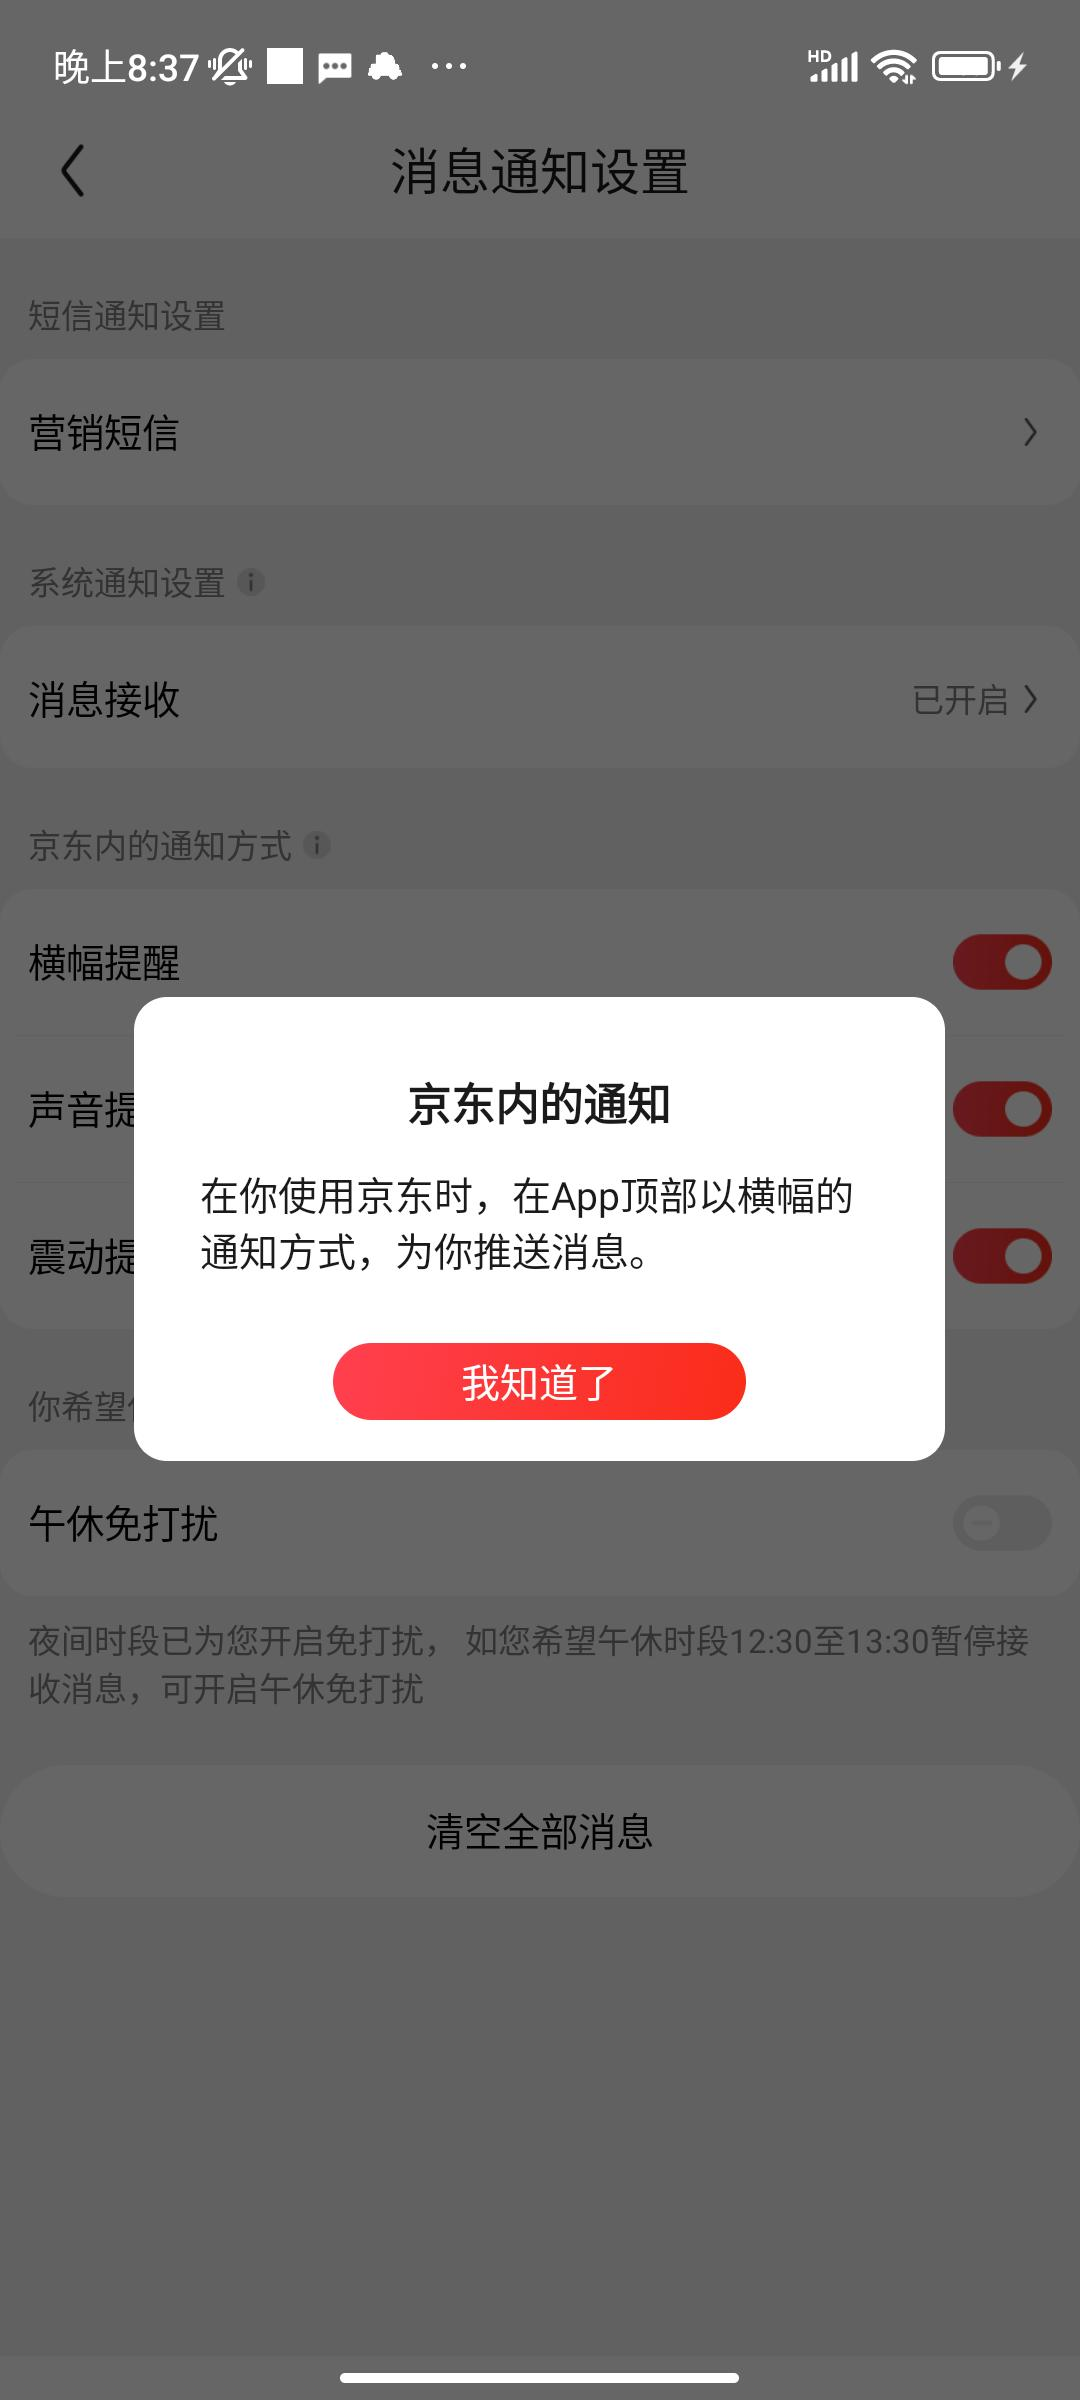ui_group: (128, 996, 945, 1463)
